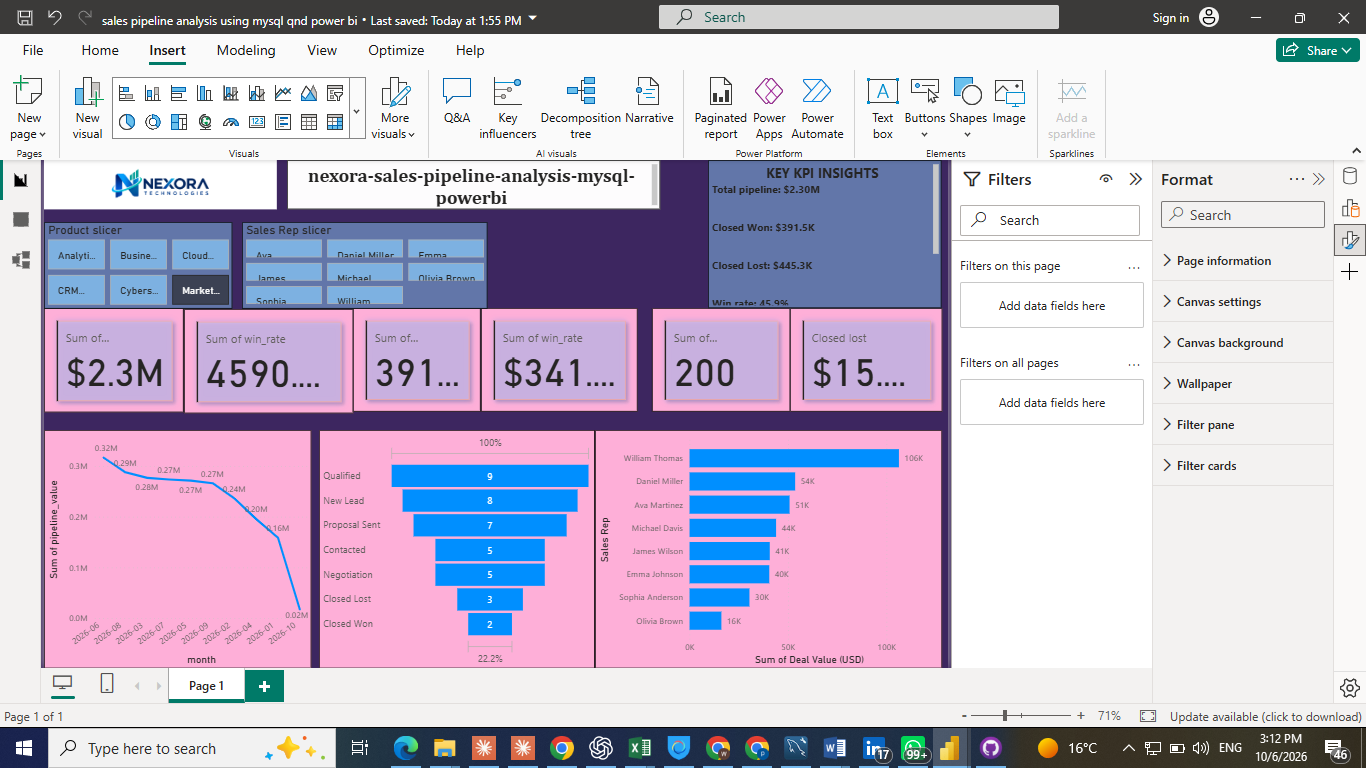

The page's visual inventory and layout, read from the dashboard file:
{"tool":"powerbi","page":{"name":"Page 1","canvas":[1280,720],"ordinal":0},"visuals":[{"type":"cardVisual","title":"Total pipeline","fields":{"Data":["Sum(us_sales_analysis total pipeline value.total_pipeline_value)"]},"box":[0,209.2,198.4,148.4],"z":0},{"type":"cardVisual","fields":{"Data":["Sum(us_sales_analysis mothly view.won_value)"]},"box":[438.1,209.8,181.2,147],"z":1000},{"type":"cardVisual","fields":{"Data":["Sum(us_sales_analysis win rate by sales rep.win_rate)"]},"box":[619.2,210.2,221.8,146.9],"z":2000},{"type":"cardVisual","fields":{"Data":["us_sales_analysis average deal value.Closed lost"]},"box":[1057,210.2,216,146.9],"z":3000},{"type":"cardVisual","fields":{"Data":["Sum(us_sales_analysis win rate.win_rate)"]},"box":[198.4,210.9,239.6,148.4],"z":4000},{"type":"cardVisual","fields":{"Data":["Sum(us_sales_analysis mothly view.opportunities)"]},"box":[861.1,210.2,195.8,146.9],"z":5000},{"type":"lineChart","fields":{"Y":["Sum(us_sales_analysis mothly view.pipeline_value)"],"Category":["us_sales_analysis mothly view.month"]},"box":[0,382.6,379,337.9],"z":6000},{"type":"funnel","fields":{"Y":["us_sales_analysis us_sales_analysis.Total opportunities"],"Category":["us_sales_analysis sales funnel.sales stage"]},"box":[389.6,382.4,391,338.2],"z":7000},{"type":"textbox","box":[347.2,0,493.2,52.4],"z":7001},{"type":"clusteredBarChart","fields":{"Category":["us_sales_analysis us_sales_analysis.Sales Rep"],"Y":["Sum(us_sales_analysis us_sales_analysis.Deal Value (USD))"]},"box":[781.2,382.6,491.6,337.9],"z":7002},{"type":"advancedSlicerVisual","title":"Sales Rep slicer","fields":{"Values":["us_sales_analysis us_sales_analysis.Sales Rep"]},"box":[281.1,88.5,261.1,122.7],"z":7003},{"type":"advancedSlicerVisual","title":"Product slicer","fields":{"Values":["us_sales_analysis us_sales_analysis.Product"]},"box":[0,51.8,266.4,137.7],"z":7004},{"type":"textbox","box":[318.2,51.4,555.1,37.1],"z":7005},{"type":"textbox","box":[941.8,0,331.1,209.8],"z":7006}]}

Visuals, with their boxes on the page's 1280x720 design canvas (x1, y1, x2, y2). These are canvas units, not pixel positions in the 1366x768 screenshot, which may show the page scaled, cropped or inside an application window:
"Total pipeline" cardVisual: (0, 209, 198, 358)
cardVisual - Sum(us_sales_analysis mothly view.won_value): (438, 210, 619, 357)
cardVisual - Sum(us_sales_analysis win rate by sales rep.win_rate): (619, 210, 841, 357)
cardVisual - us_sales_analysis average deal value.Closed lost: (1057, 210, 1273, 357)
cardVisual - Sum(us_sales_analysis win rate.win_rate): (198, 211, 438, 359)
cardVisual - Sum(us_sales_analysis mothly view.opportunities): (861, 210, 1057, 357)
lineChart - Sum(us_sales_analysis mothly view.pipeline_value) x us_sales_analysis mothly view.month: (0, 383, 379, 720)
funnel - us_sales_analysis us_sales_analysis.Total opportunities x us_sales_analysis sales funnel.sales stage: (390, 382, 781, 721)
textbox: (347, 0, 840, 52)
clusteredBarChart - us_sales_analysis us_sales_analysis.Sales Rep x Sum(us_sales_analysis us_sales_analysis.Deal Value (USD)): (781, 383, 1273, 720)
"Sales Rep slicer" advancedSlicerVisual: (281, 88, 542, 211)
"Product slicer" advancedSlicerVisual: (0, 52, 266, 190)
textbox: (318, 51, 873, 88)
textbox: (942, 0, 1273, 210)
